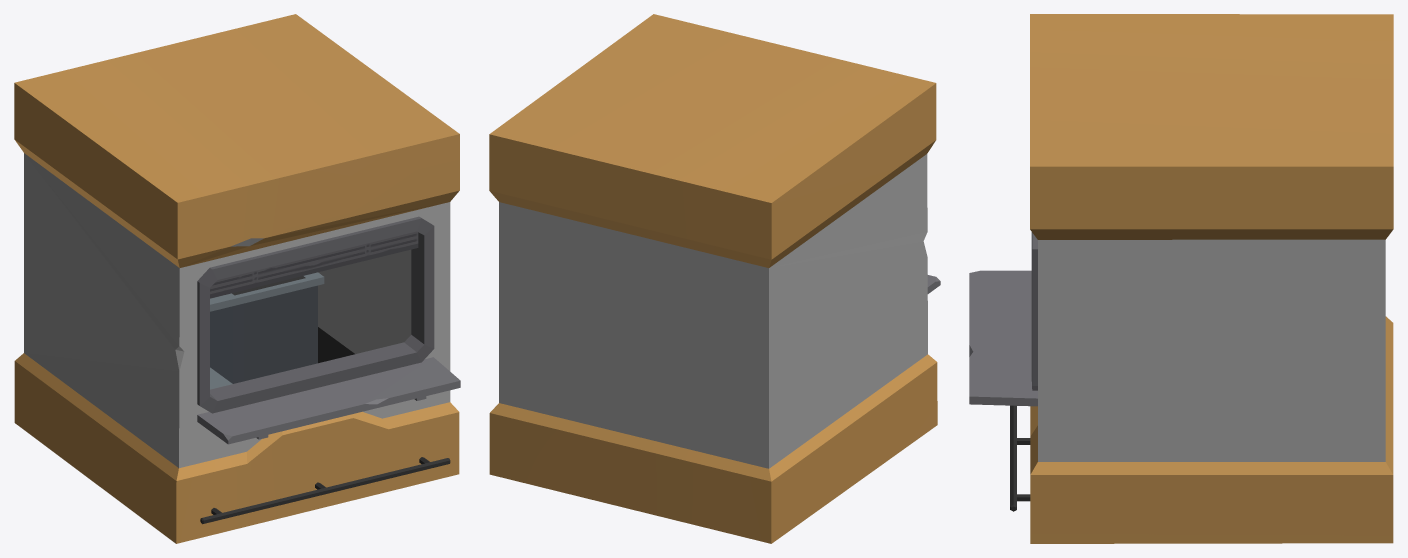
Rendered from city_SM_Bld_FoodHole_01.gltf.
3 views of the same model, side by side, from view 1: azimuth 30°, elevation 25°; view 2: azimuth 150°, elevation 25°; view 3: azimuth 270°, elevation 25° (orthographic). The views are drawn at different scales.
Visible parts, largest first — view 1: SM_Bld_FoodHole_01; view 2: SM_Bld_FoodHole_01; view 3: SM_Bld_FoodHole_01.
Part boxes in pixels (bbox=[...]): SM_Bld_FoodHole_01: bbox=[14, 14, 460, 543]; SM_Bld_FoodHole_01: bbox=[489, 14, 940, 543]; SM_Bld_FoodHole_01: bbox=[969, 14, 1393, 543].
Bounding box in the file's own units: 2.61 × 3 × 3.05.
Materials: 1 (1 with a texture image).
